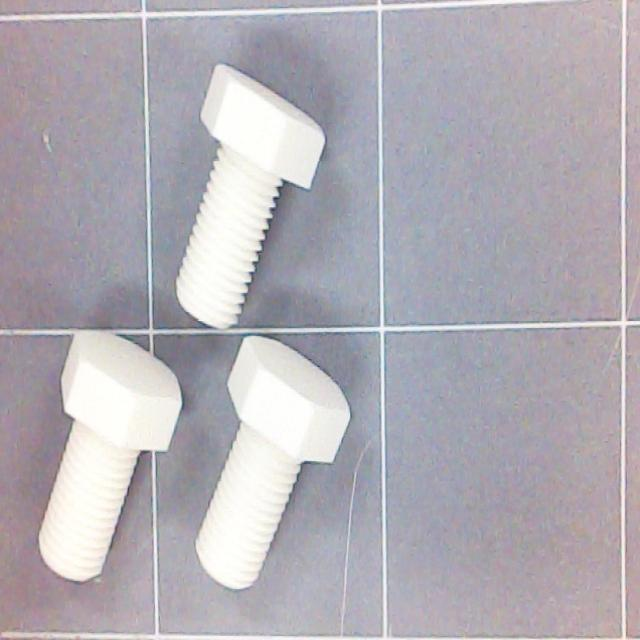bolts: (160, 330, 367, 607), (142, 62, 339, 341), (3, 324, 196, 595)
